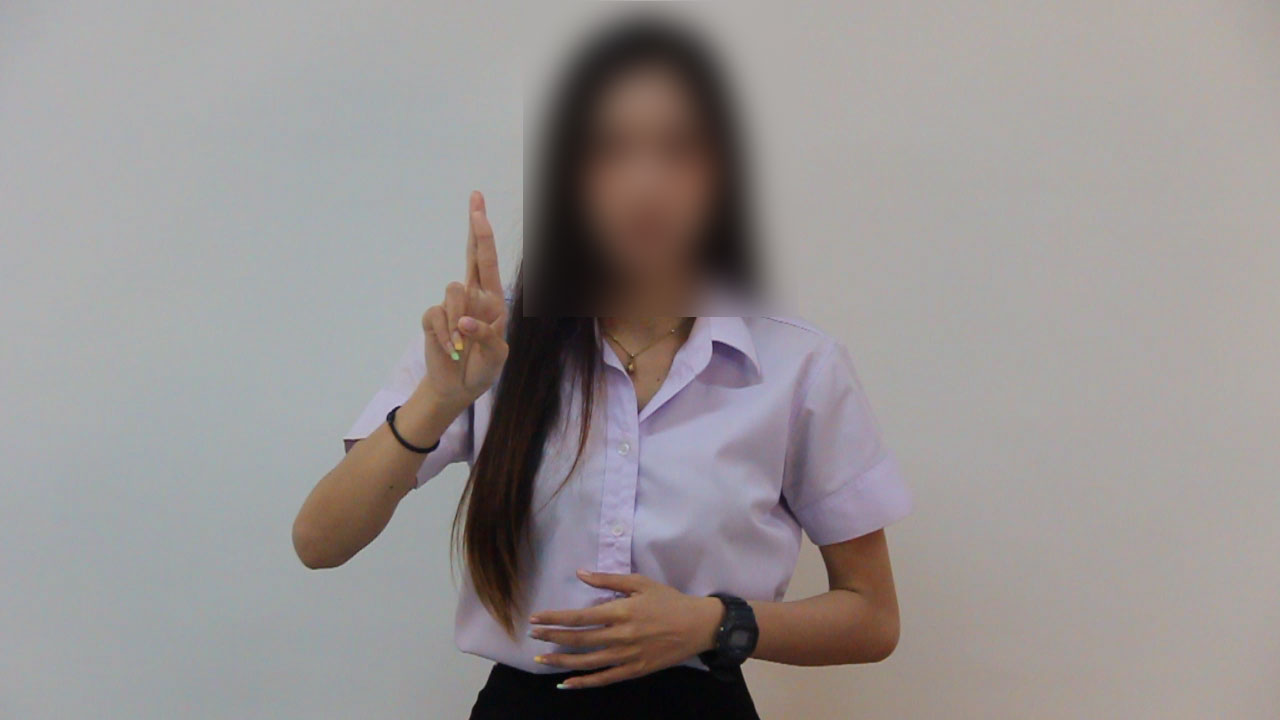rao: (369, 182, 516, 416)
